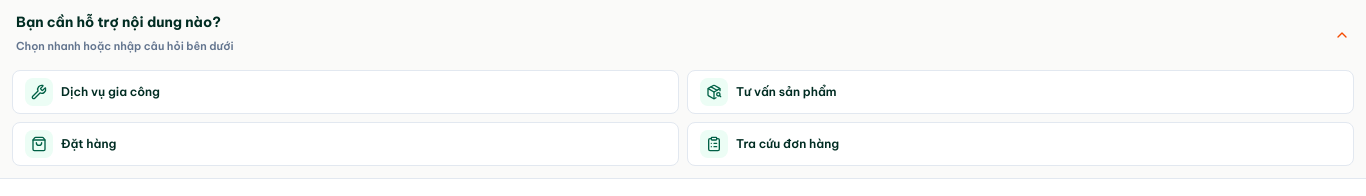
Test: SupportQuickActions › gửi nội dung tương ứng và thu gọn danh sách sau khi chọn
Click the button "Tư vấn sản phẩm" at (786, 91), box [687,70,1354,114]
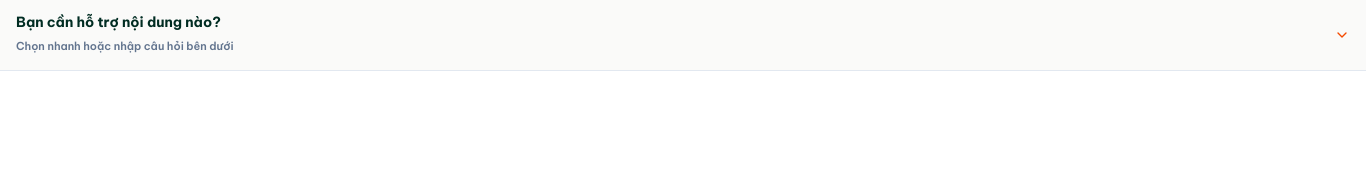
Result: the button "Tư vấn sản phẩm" is gone
Result: the button "Bạn cần hỗ trợ nội dung nào" is collapsed at [12,12,1354,58]
